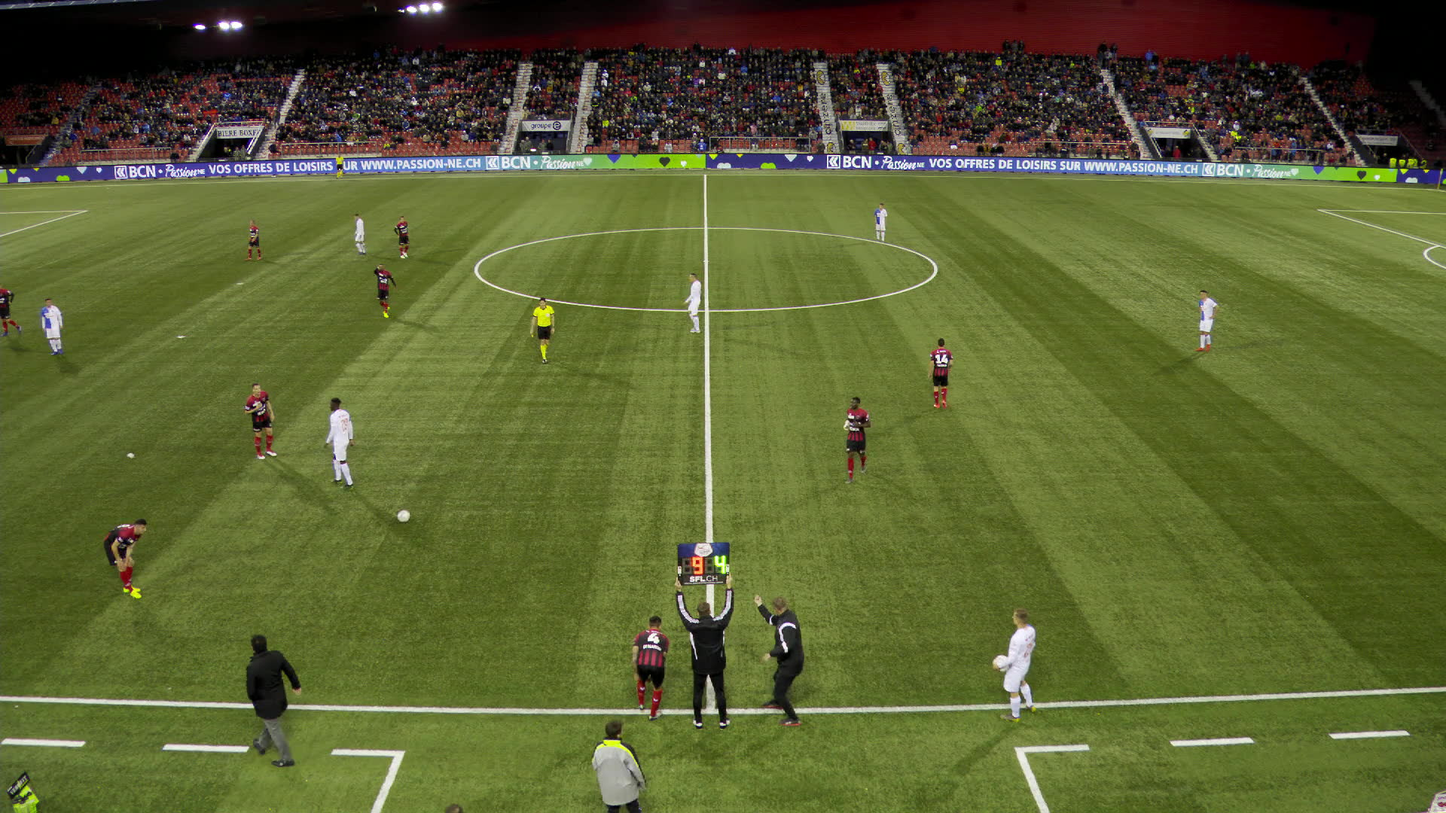ball: (755, 591, 804, 726), (993, 654, 1007, 670), (395, 510, 407, 522)
player: (993, 607, 1036, 723), (102, 518, 146, 598), (325, 397, 355, 491), (244, 382, 276, 459), (843, 395, 871, 480), (928, 338, 953, 411), (1194, 290, 1219, 353), (40, 298, 64, 355), (373, 263, 396, 318), (684, 273, 703, 332), (0, 284, 21, 335), (353, 213, 368, 254), (394, 215, 408, 257), (247, 220, 261, 260), (874, 202, 887, 242)
referee: (530, 297, 554, 364), (336, 154, 343, 179)
